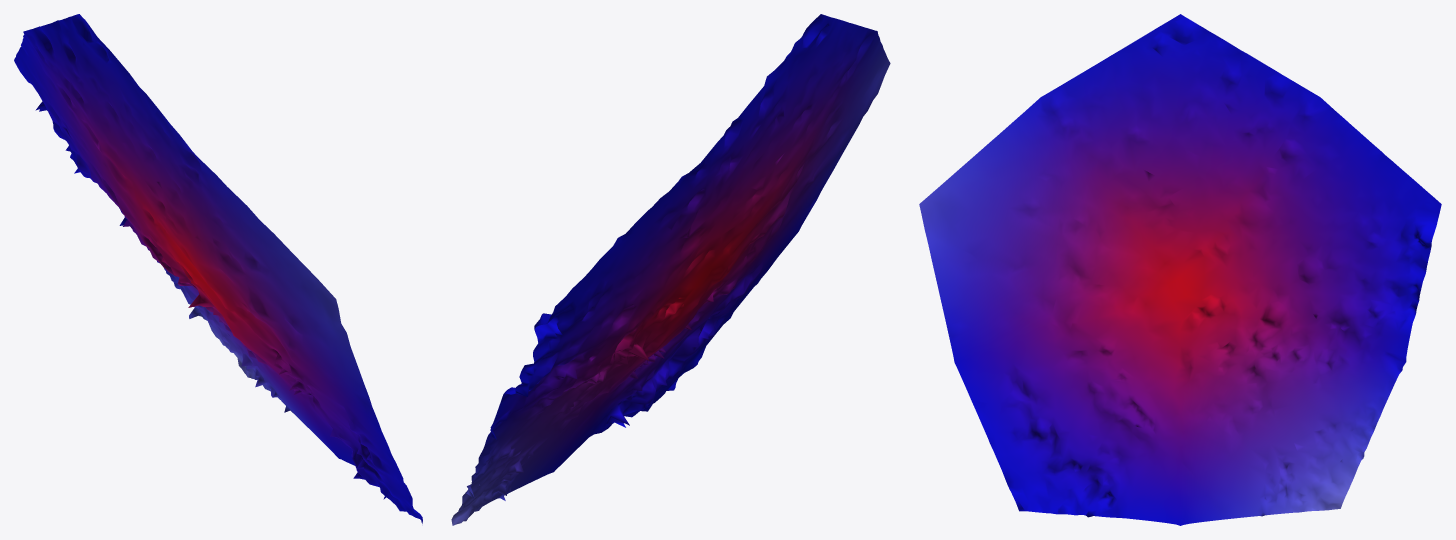
The model's file is Hex_33.fbx.
3 renders of one model, left to right at view 1: azimuth 30°, elevation 25°; view 2: azimuth 150°, elevation 25°; view 3: azimuth 270°, elevation 25°, orthographic. The views are drawn at different scales.
Parts seen in each view (by area): view 1: Hex_33; view 2: Hex_33; view 3: Hex_33.
Part boxes in pixels (left/top/right/bottom): Hex_33: left=14, top=14, right=422, bottom=523; Hex_33: left=451, top=14, right=890, bottom=525; Hex_33: left=919, top=14, right=1441, bottom=525.
Size of the model in its own units: 195 by 363 by 419.
